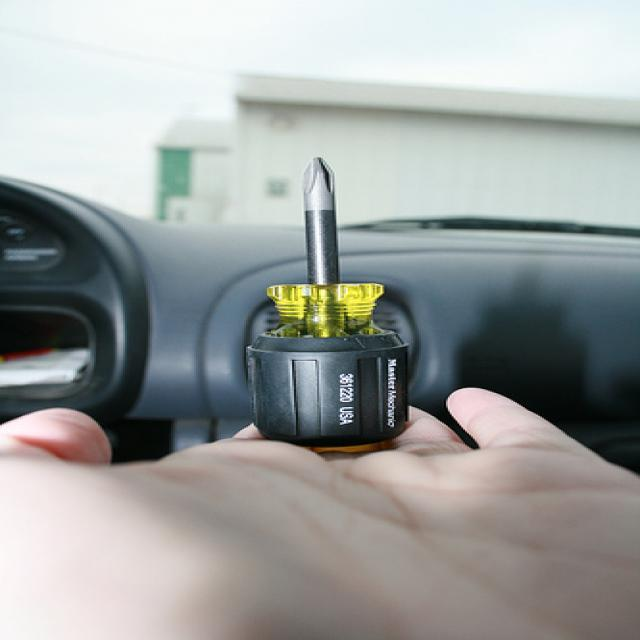screwdriver: (238, 153, 421, 454)
